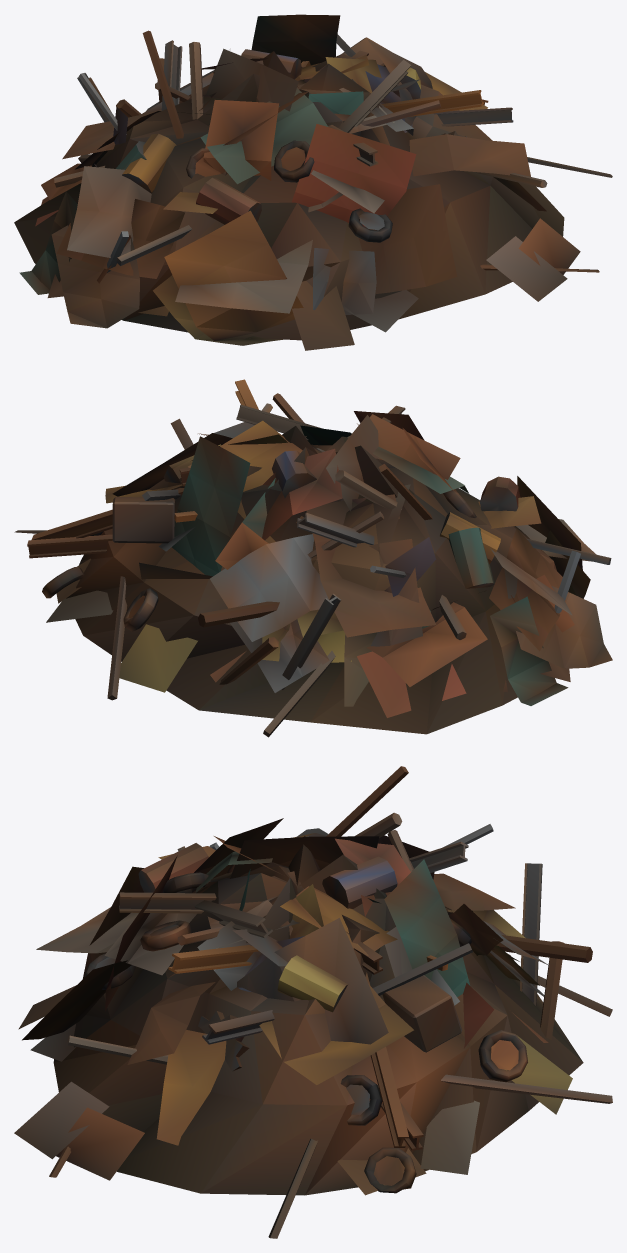
Rendered from scrap_pile.glb.
3 renders of one model, top to bottom at view 1: azimuth 30°, elevation 25°; view 2: azimuth 150°, elevation 25°; view 3: azimuth 270°, elevation 25°, orthographic. The views are drawn at different scales.
Visible parts, largest first — view 1: ScrapPile; view 2: ScrapPile; view 3: ScrapPile.
Boxes of the visible parts, left/top/right/bottom form: ScrapPile: left=14, top=14, right=612, bottom=350; ScrapPile: left=14, top=379, right=612, bottom=737; ScrapPile: left=14, top=766, right=612, bottom=1238.
Bounding box in the file's own units: 9.73 × 3.41 × 7.73.
